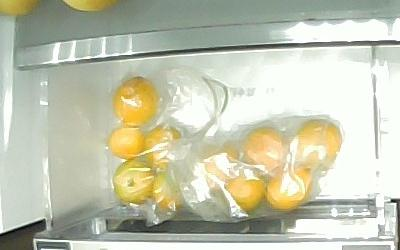tangerine_vinyl: (240, 125, 289, 176), (292, 118, 343, 167), (111, 75, 159, 126), (262, 163, 313, 211), (111, 157, 155, 204), (199, 143, 240, 191), (141, 122, 183, 168), (222, 170, 268, 212), (149, 169, 185, 211), (106, 125, 146, 159)
